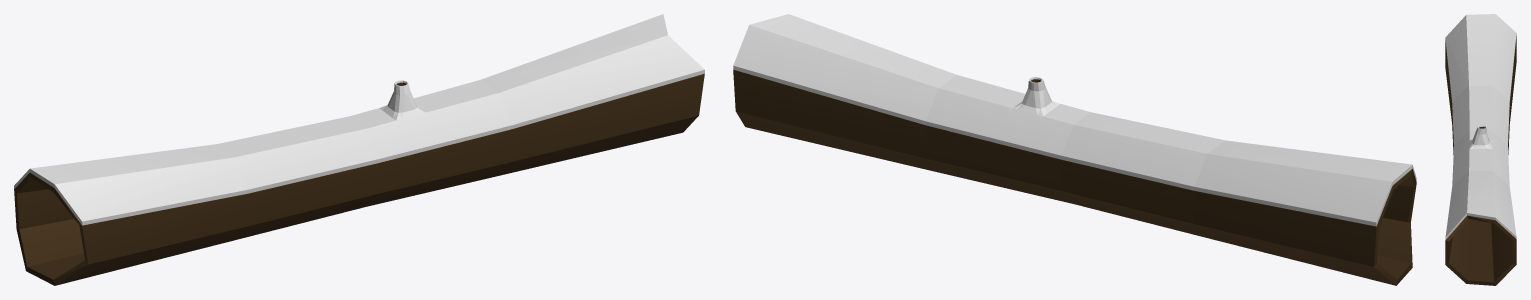
File: Winter_Log_03.glb
The picture shows the model from 3 angles, left to right: view 1: azimuth 30°, elevation 25°; view 2: azimuth 150°, elevation 25°; view 3: azimuth 270°, elevation 25°; orthographic projection. The views are drawn at different scales.
Visible parts, largest first — view 1: Winter_Log_03_LOD0; view 2: Winter_Log_03_LOD0; view 3: Winter_Log_03_LOD0.
Boxes of the visible parts, left/top/right/bottom form: Winter_Log_03_LOD0: left=14, top=14, right=704, bottom=285; Winter_Log_03_LOD0: left=733, top=14, right=1416, bottom=285; Winter_Log_03_LOD0: left=1445, top=14, right=1516, bottom=285.
Size of what is drawn, in the model's own units: 2.18 by 0.3461 by 0.3168.
1 material, 1 textured.
